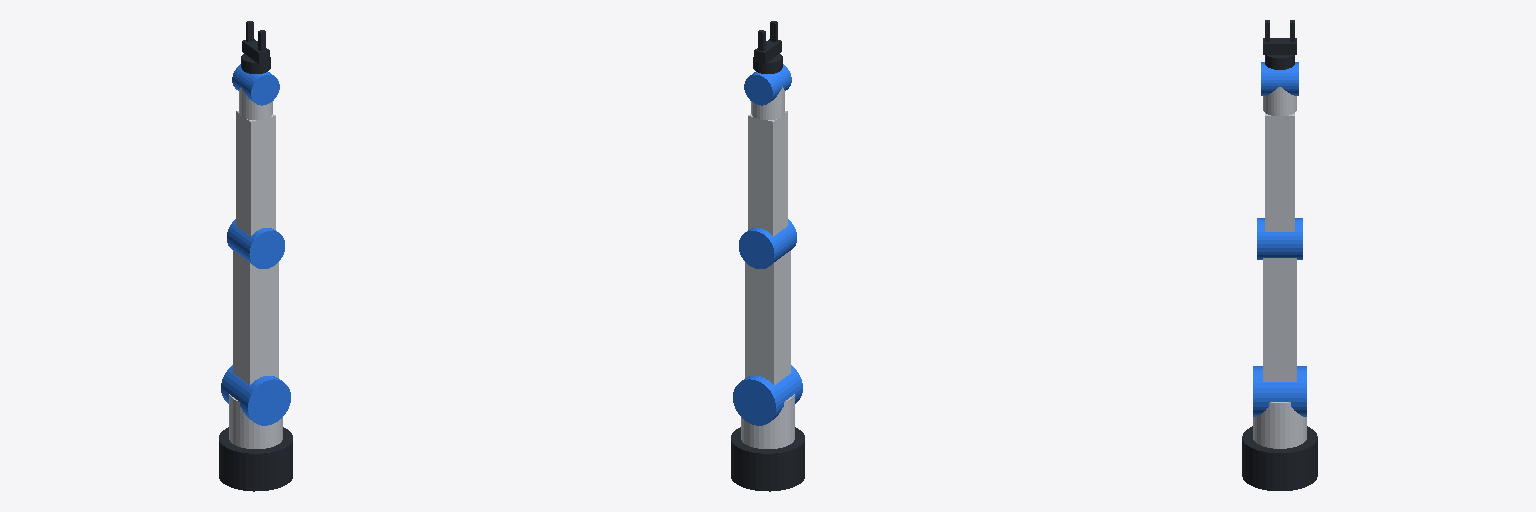
The robot description file, URDF, robot "demo_arm":
<?xml version="1.0"?>
<!-- 개발용 6축 팔 (기본 도형만 사용, 메시 없음). 실제 팔은 제조사 URDF로 교체. 조인트 이름은 실행기 joints 파라미터와 같아야 함 -->
<robot name="demo_arm">
  <material name="dark"><color rgba="0.20 0.22 0.25 1"/></material>
  <material name="light"><color rgba="0.82 0.84 0.87 1"/></material>
  <material name="accent"><color rgba="0.24 0.55 0.99 1"/></material>

  <link name="base_link">
    <visual><origin xyz="0 0 0.05"/><geometry><cylinder radius="0.09" length="0.1"/></geometry><material name="dark"/></visual>
  </link>

  <joint name="joint1" type="revolute">
    <parent link="base_link"/><child link="link1"/>
    <origin xyz="0 0 0.1"/><axis xyz="0 0 1"/>
    <limit lower="-3.1416" upper="3.1416" effort="100" velocity="3.14"/>
  </joint>
  <link name="link1">
    <visual><origin xyz="0 0 0.06"/><geometry><cylinder radius="0.065" length="0.12"/></geometry><material name="light"/></visual>
  </link>

  <joint name="joint2" type="revolute">
    <parent link="link1"/><child link="link2"/>
    <origin xyz="0 0 0.12"/><axis xyz="0 1 0"/>
    <limit lower="-3.1416" upper="3.1416" effort="100" velocity="3.14"/>
  </joint>
  <link name="link2">
    <visual><origin rpy="1.5708 0 0"/><geometry><cylinder radius="0.06" length="0.13"/></geometry><material name="accent"/></visual>
    <visual><origin xyz="0 0 0.2"/><geometry><box size="0.08 0.08 0.4"/></geometry><material name="light"/></visual>
  </link>

  <joint name="joint3" type="revolute">
    <parent link="link2"/><child link="link3"/>
    <origin xyz="0 0 0.4"/><axis xyz="0 1 0"/>
    <limit lower="-3.1416" upper="3.1416" effort="100" velocity="3.14"/>
  </joint>
  <link name="link3">
    <visual><origin rpy="1.5708 0 0"/><geometry><cylinder radius="0.05" length="0.11"/></geometry><material name="accent"/></visual>
    <visual><origin xyz="0 0 0.17"/><geometry><box size="0.07 0.07 0.34"/></geometry><material name="light"/></visual>
  </link>

  <joint name="joint4" type="revolute">
    <parent link="link3"/><child link="link4"/>
    <origin xyz="0 0 0.34"/><axis xyz="0 0 1"/>
    <limit lower="-3.1416" upper="3.1416" effort="100" velocity="3.14"/>
  </joint>
  <link name="link4">
    <visual><origin xyz="0 0 0.04"/><geometry><cylinder radius="0.04" length="0.08"/></geometry><material name="light"/></visual>
  </link>

  <joint name="joint5" type="revolute">
    <parent link="link4"/><child link="link5"/>
    <origin xyz="0 0 0.08"/><axis xyz="0 1 0"/>
    <limit lower="-3.1416" upper="3.1416" effort="100" velocity="3.14"/>
  </joint>
  <link name="link5">
    <visual><origin rpy="1.5708 0 0"/><geometry><cylinder radius="0.04" length="0.09"/></geometry><material name="accent"/></visual>
  </link>

  <joint name="joint6" type="revolute">
    <parent link="link5"/><child link="link6"/>
    <origin xyz="0 0 0.04"/><axis xyz="0 0 1"/>
    <limit lower="-3.1416" upper="3.1416" effort="100" velocity="3.14"/>
  </joint>
  <link name="link6">
    <visual><origin xyz="0 0 0.015"/><geometry><cylinder radius="0.035" length="0.03"/></geometry><material name="dark"/></visual>
    <visual><origin xyz="0 0 0.045"/><geometry><box size="0.03 0.08 0.03"/></geometry><material name="dark"/></visual>
    <visual><origin xyz="0 0.03 0.085"/><geometry><box size="0.015 0.012 0.05"/></geometry><material name="dark"/></visual>
    <visual><origin xyz="0 -0.03 0.085"/><geometry><box size="0.015 0.012 0.05"/></geometry><material name="dark"/></visual>
  </link>
</robot>

--- Render facts (derived) ---
3 views of the same robot in one strip: view 1: azimuth 30°, elevation 25°; view 2: azimuth 150°, elevation 25°; view 3: azimuth 270°, elevation 25° (orthographic).
Robot: demo_arm — 7 links, 6 joints (6 revolute); root link base_link; default pose: every joint at zero.
Links seen in each view (by area): view 1: link2, link3, base_link, link1, link5, link6, link4; view 2: link2, link3, base_link, link1, link5, link6, link4; view 3: link2, link3, base_link, link1, link6, link5, link4.
Link boxes in pixels (x1,y1,x2,y2): link2: [221, 251, 290, 425]; link3: [227, 111, 284, 268]; base_link: [219, 427, 292, 491]; link1: [229, 394, 282, 448]; link5: [232, 64, 279, 105]; link6: [241, 21, 270, 73]; link4: [239, 87, 272, 119]; link2: [733, 251, 802, 425]; link3: [739, 111, 796, 268]; base_link: [731, 427, 804, 491]; link1: [741, 394, 794, 448]; link5: [744, 64, 791, 105]; link6: [753, 21, 782, 73]; link4: [751, 87, 784, 119]; link2: [1253, 258, 1306, 416]; link3: [1257, 113, 1302, 259]; base_link: [1242, 426, 1317, 490]; link1: [1253, 402, 1306, 448]; link6: [1263, 20, 1296, 69]; link5: [1261, 62, 1298, 95]; link4: [1263, 87, 1296, 116].
Bounding box of the posed robot: 0.18 × 0.18 × 1.19 m (x, y, z).
Geometry: primitives only (box / cylinder / sphere), no mesh files.
